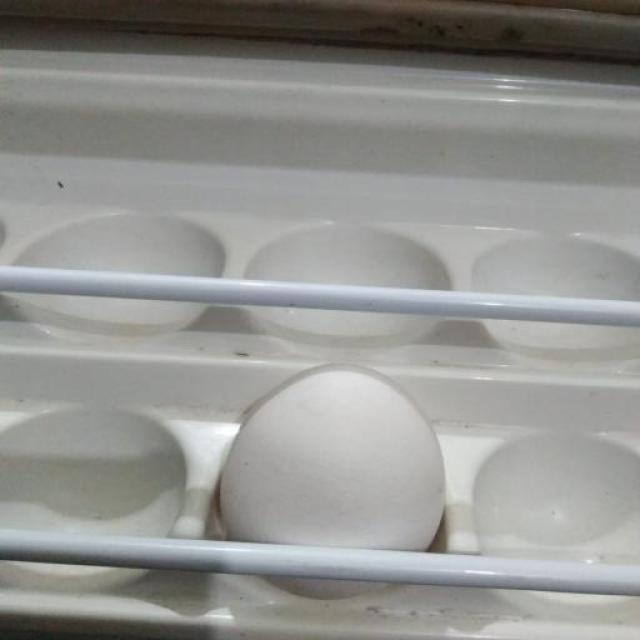telur: (216, 363, 444, 599)
